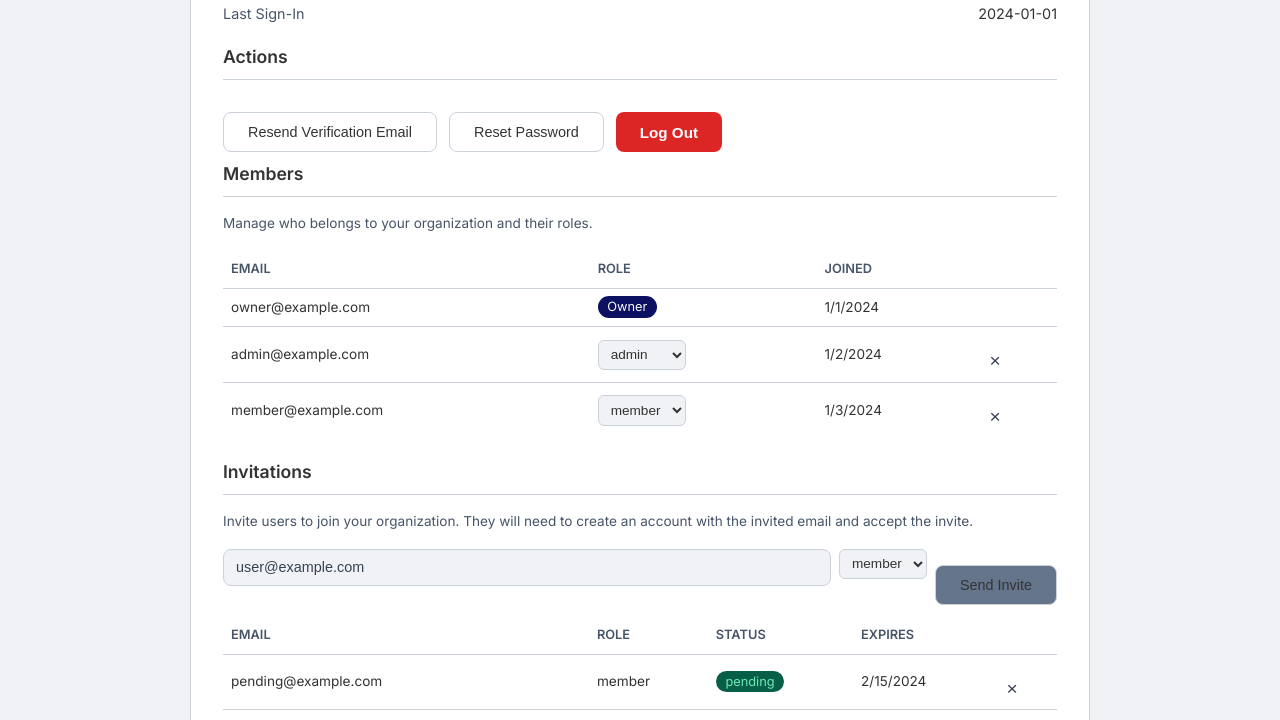
Scenario: SettingsPage - Member Management › Members Section - Removal › shows success message after member removal
The image size is (1280, 720).
(page scrolled)
Step 1. Click the button "×" in the row of "admin@example.com" → (995, 361), box [985,351,1006,371]
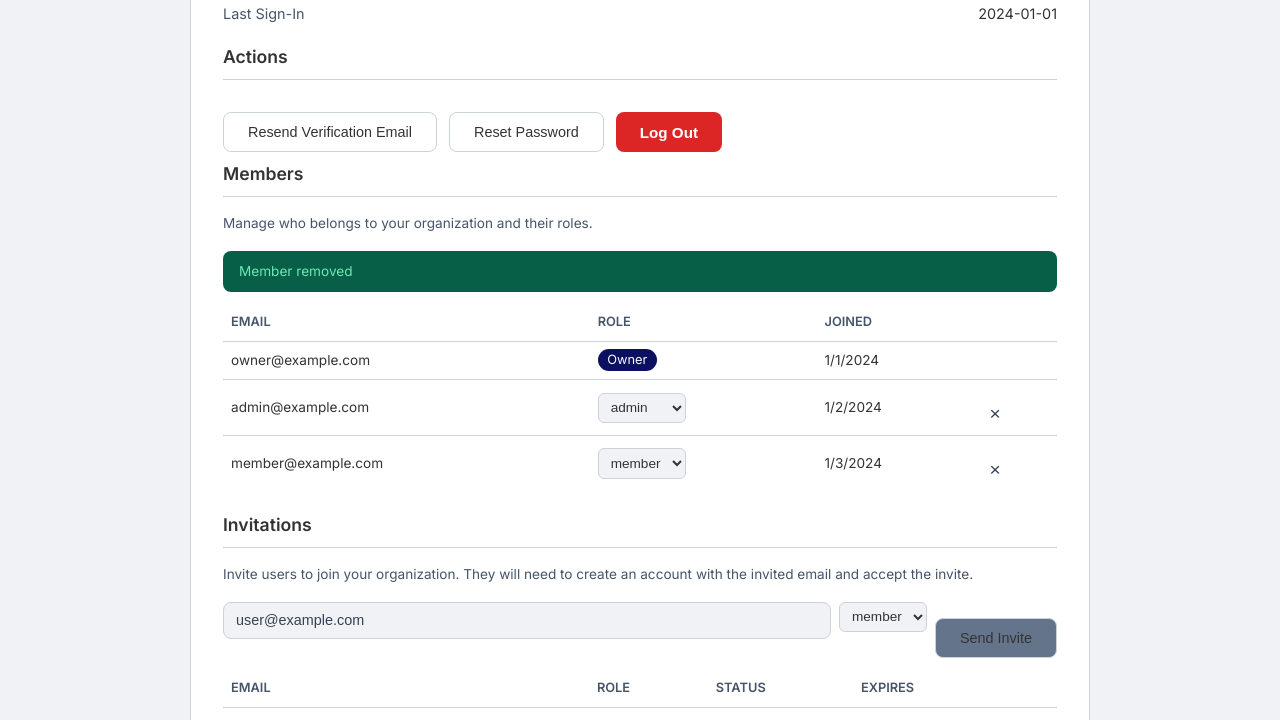
Expected: the text "Member removed" is shown, [223,251,1057,292]
